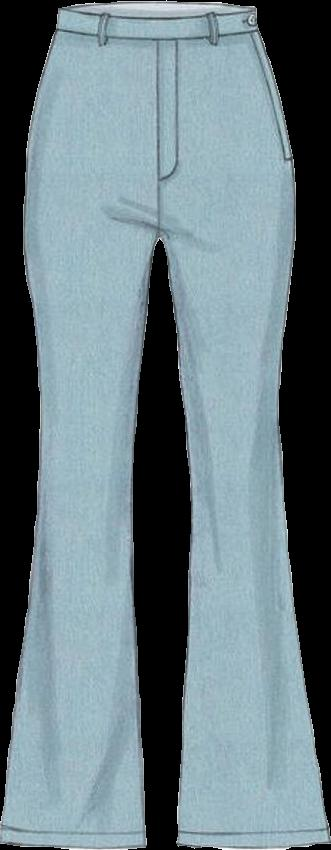Hemline: (175, 835, 330, 849), (0, 835, 151, 849)
Pantleg: (156, 2, 329, 849), (0, 2, 159, 849)
Waistline: (54, 24, 259, 50), (60, 4, 254, 23)
